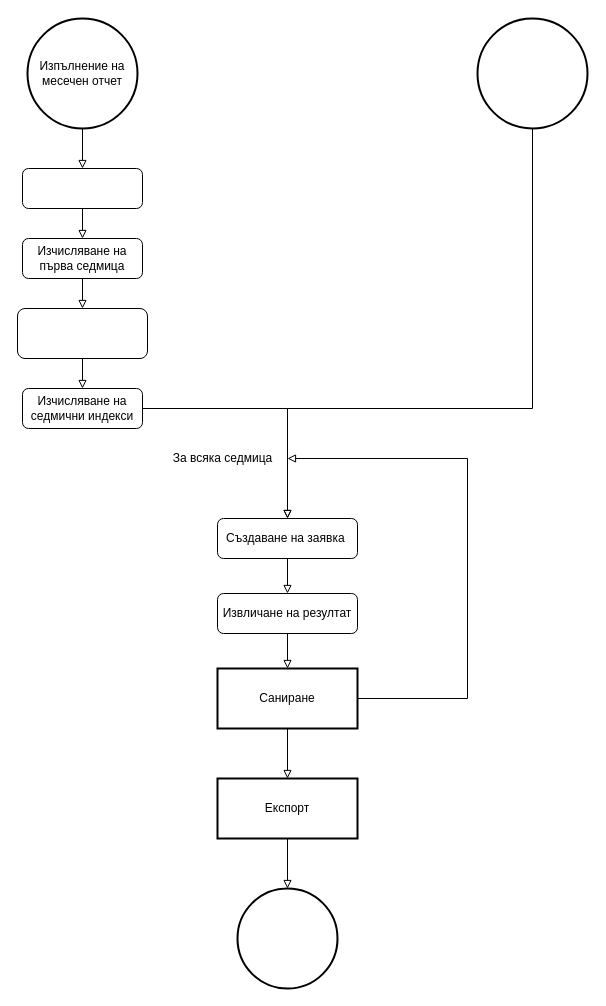
Image size: 606x1006. Some labels were removed from this diagram. Here are the shapes that lost their labels. From the top down, the centre of each, then its label:
(532,73): Изпълнение на седмична програма
(82,188): Взимане на месечен индекс
(82,333): Изчисляване на брой седмици в месец
(287,938): Изходна точка
